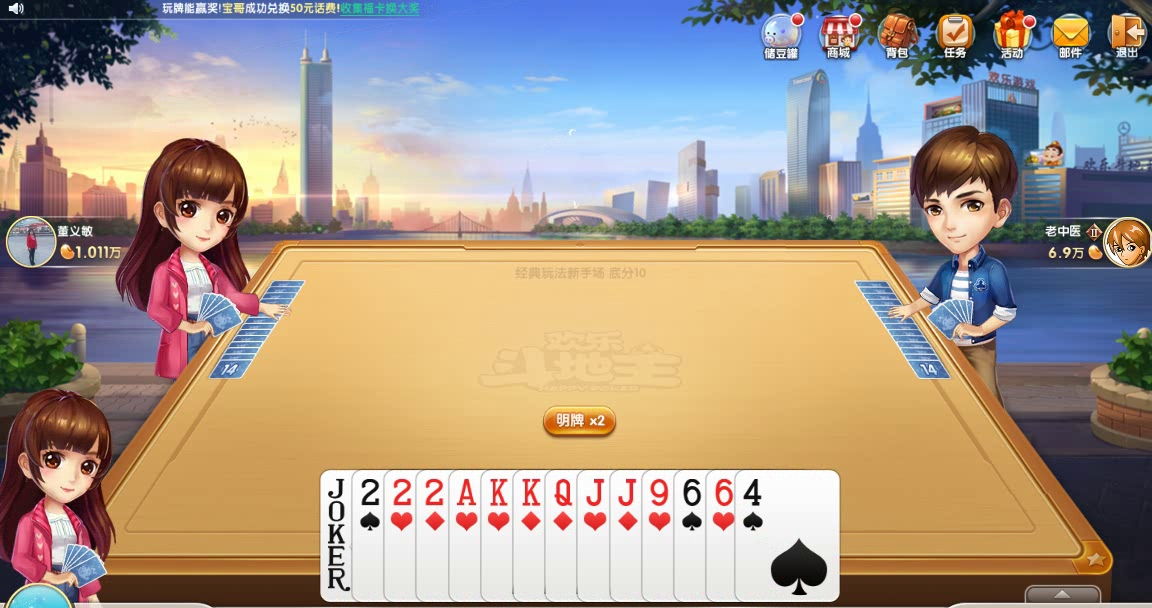11~1: (608, 469, 716, 603)
11~3: (575, 469, 683, 603)
12~1: (543, 470, 651, 604)
13~1: (512, 469, 620, 603)
14~3: (446, 468, 554, 602)
15~1: (414, 468, 522, 602)
15~3: (382, 469, 490, 603)
15~4: (350, 469, 458, 603)
17~3: (316, 470, 424, 604)
4~4: (732, 470, 840, 604)
6~3: (704, 469, 812, 603)
6~4: (672, 469, 780, 603)
9~3: (639, 468, 747, 602)
